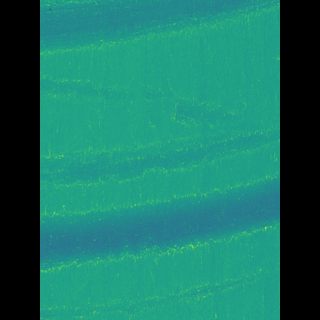Loch: (70, 72, 250, 185), (69, 170, 249, 275), (69, 0, 251, 53), (70, 264, 242, 320)
